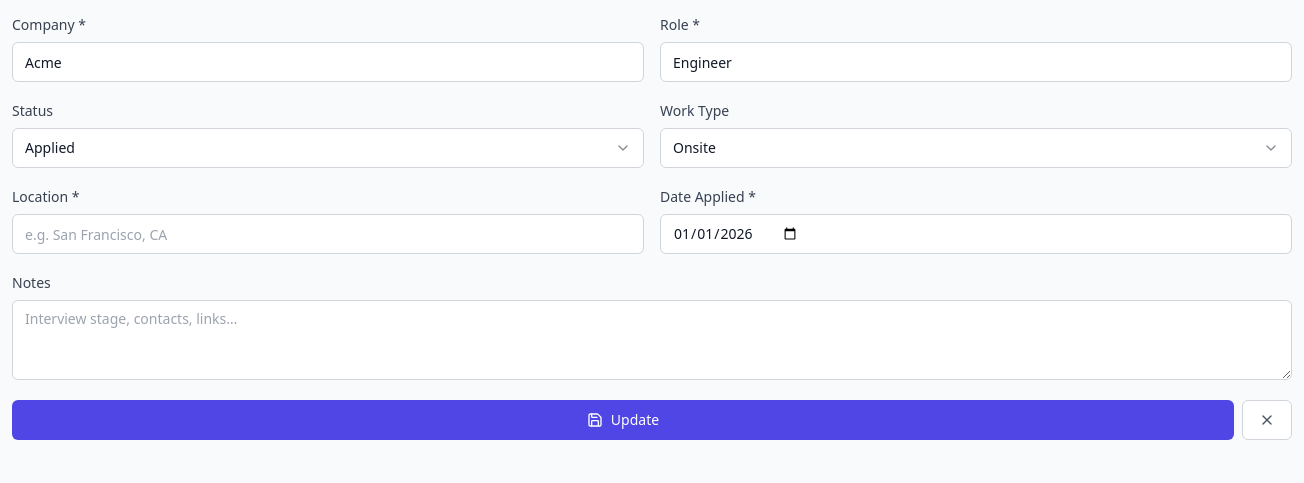
ApplicationForm › shows a location error on submit when work type is not Remote and location is blank
Click the button "Update" at point(623, 420), box [12,400,1234,440]
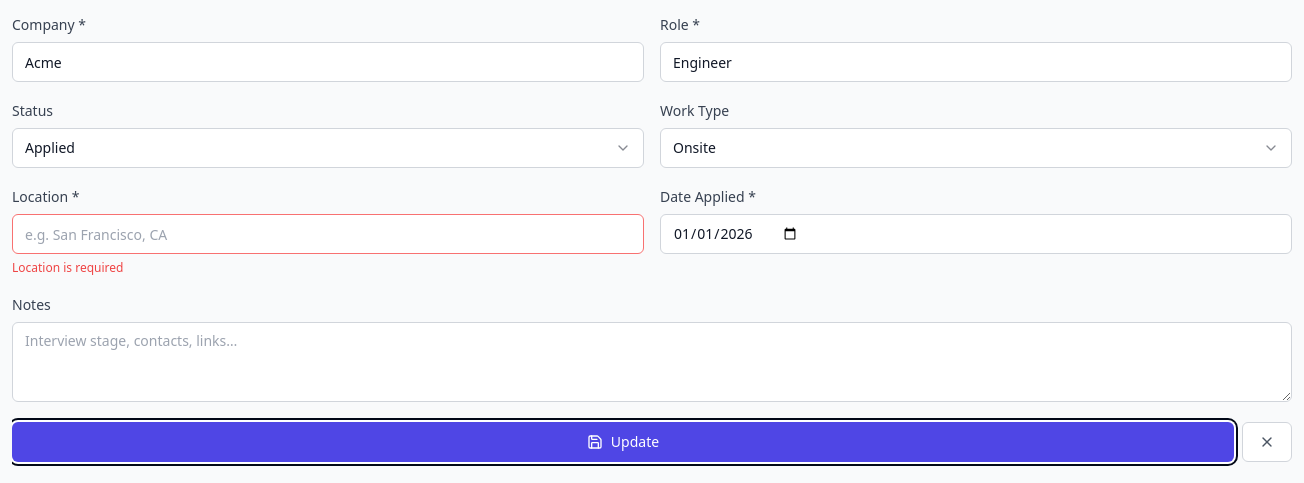
Result: the text "Location is required" is shown at [12,259,124,276]
